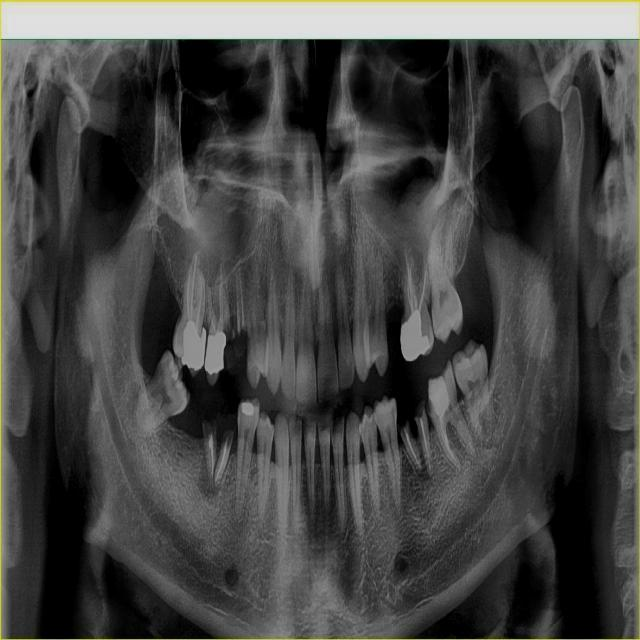Caries: (426, 395, 432, 415)
Filling: (400, 311, 430, 361), (181, 322, 206, 370), (429, 374, 450, 418), (204, 334, 226, 374), (242, 401, 253, 415)
Missing teeth: (385, 294, 407, 353), (169, 399, 205, 435)
Periapical lesion: (197, 454, 226, 511), (415, 447, 429, 479), (233, 490, 247, 522)
Root Canal Treatment: (437, 415, 458, 464), (404, 241, 418, 310), (195, 272, 203, 333), (190, 252, 197, 321), (217, 262, 223, 331), (419, 260, 426, 313), (208, 289, 216, 330), (407, 265, 412, 312), (187, 274, 191, 322), (409, 264, 411, 288)
Root Piece: (227, 255, 247, 375), (212, 416, 237, 487), (201, 414, 224, 483), (414, 399, 433, 477), (398, 417, 423, 471), (586, 293, 609, 337)
